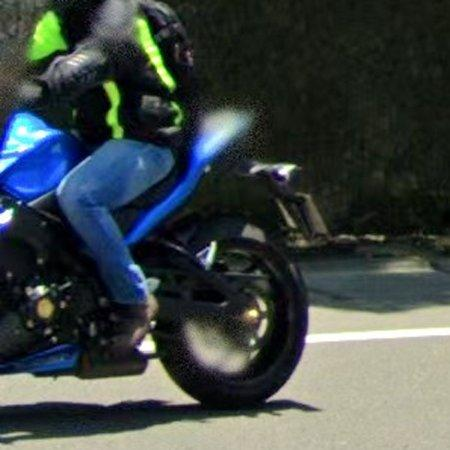motorcycles: (117, 110, 330, 408), (0, 109, 130, 374)
